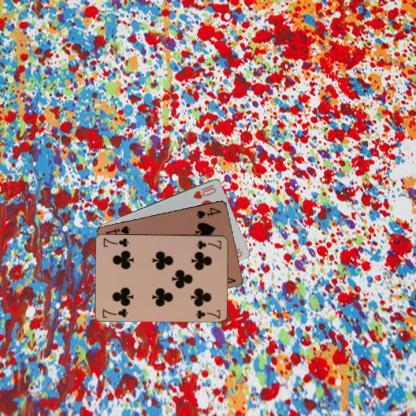10h: (190, 181, 217, 200)
4s: (194, 204, 223, 219)
7c: (100, 306, 130, 320), (194, 238, 223, 250)
